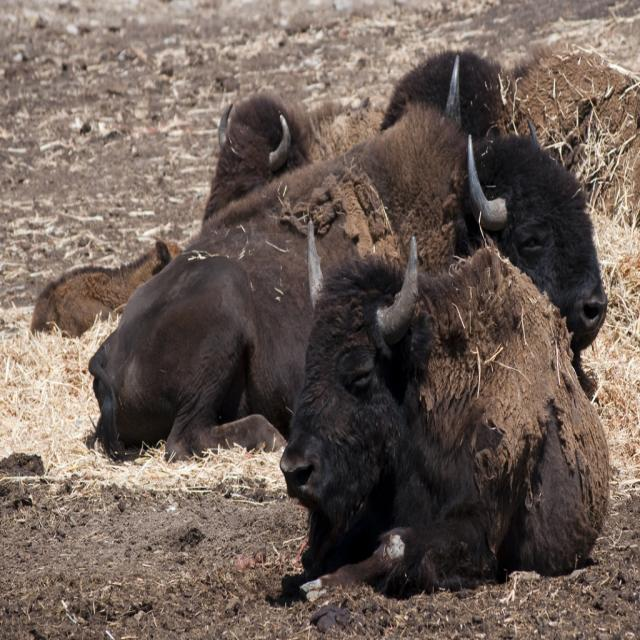Cattle: (29, 40, 640, 608)
